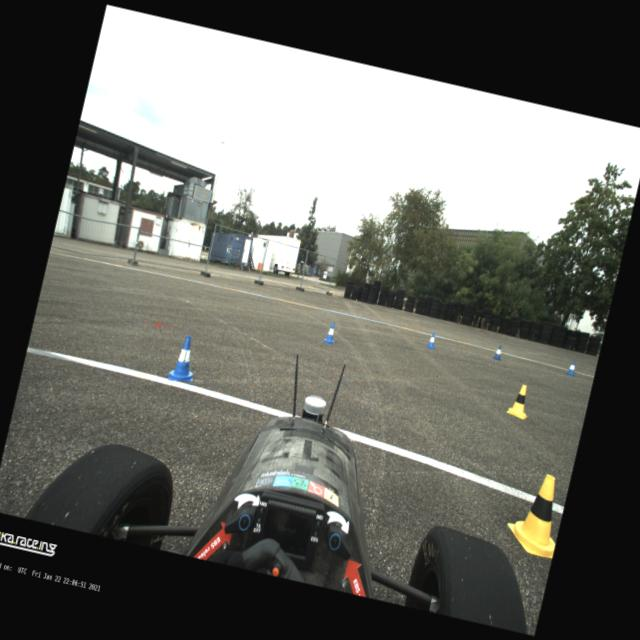blue_cone: (167, 333, 202, 385), (322, 321, 338, 344), (565, 360, 578, 377), (492, 344, 504, 361), (426, 332, 436, 349)
yellow_cone: (502, 468, 570, 558), (506, 382, 534, 420)
